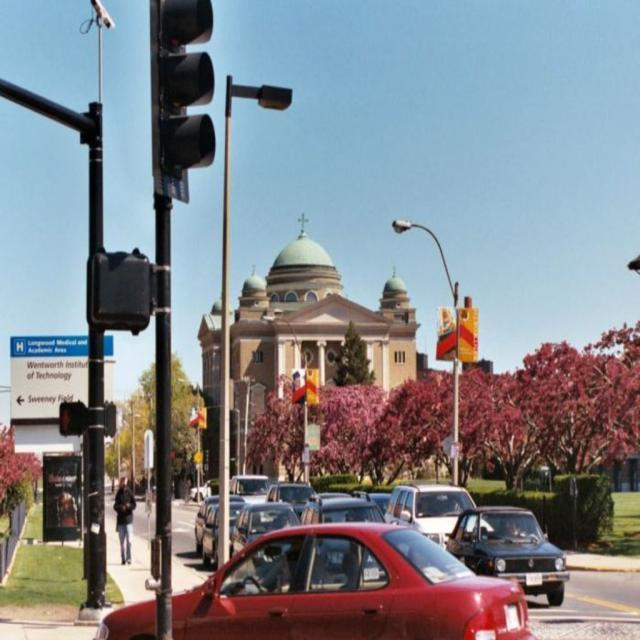off traffic light: (156, 0, 217, 203)
